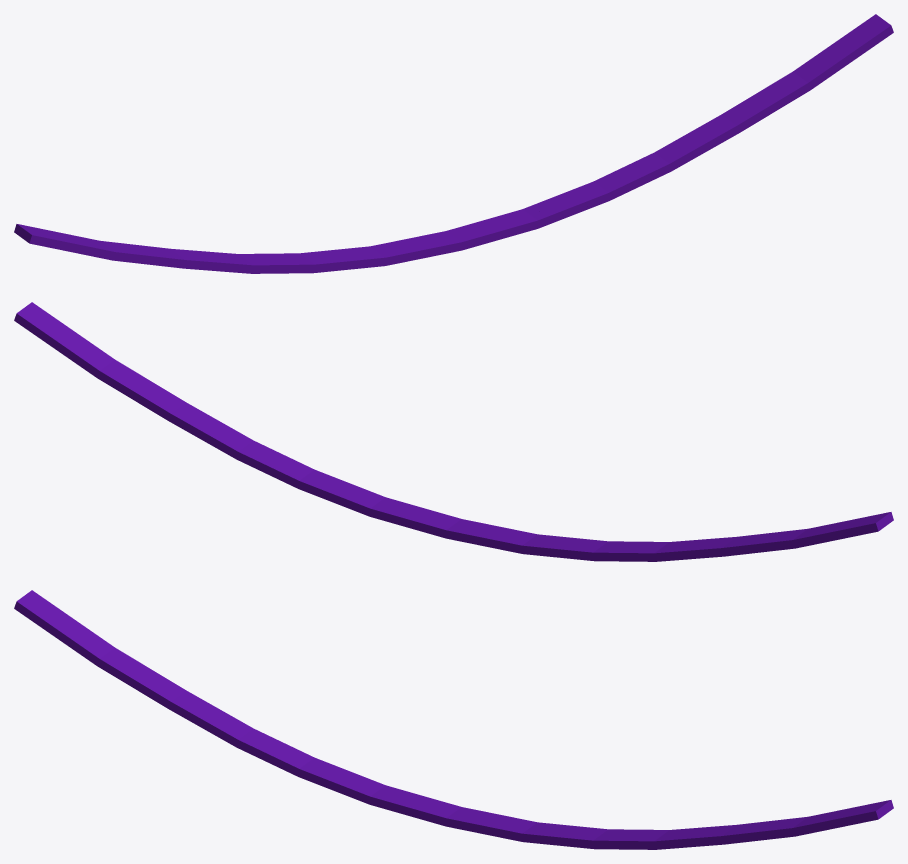
File: Tape_6.002_chunks.fbx
3 renders of one model, top to bottom at view 1: azimuth 30°, elevation 25°; view 2: azimuth 150°, elevation 25°; view 3: azimuth 330°, elevation 25°, orthographic.
Parts seen in each view (by area): view 1: Tape_6.002_1, Tape_6.002_0, Tape_6.002_2, Tape_6.002_3; view 2: Tape_6.002_1, Tape_6.002_0, Tape_6.002_2, Tape_6.002_3; view 3: Tape_6.002_0, Tape_6.002_1, Tape_6.002_3, Tape_6.002_2.
Part boxes in pixels (x1=…): Tape_6.002_1: x1=498, y1=14, x2=893, y2=216; Tape_6.002_0: x1=60, y1=227, x2=457, y2=273; Tape_6.002_2: x1=437, y1=205, x2=592, y2=255; Tape_6.002_3: x1=14, y1=224, x2=157, y2=261; Tape_6.002_1: x1=14, y1=302, x2=394, y2=518; Tape_6.002_0: x1=434, y1=523, x2=860, y2=561; Tape_6.002_2: x1=346, y1=482, x2=483, y2=535; Tape_6.002_3: x1=766, y1=512, x2=893, y2=534; Tape_6.002_0: x1=74, y1=619, x2=472, y2=819; Tape_6.002_1: x1=513, y1=800, x2=893, y2=849; Tape_6.002_3: x1=14, y1=590, x2=141, y2=684; Tape_6.002_2: x1=421, y1=809, x2=577, y2=847.
Bounding box in the file's own units: 776 × 103 × 24.08.
